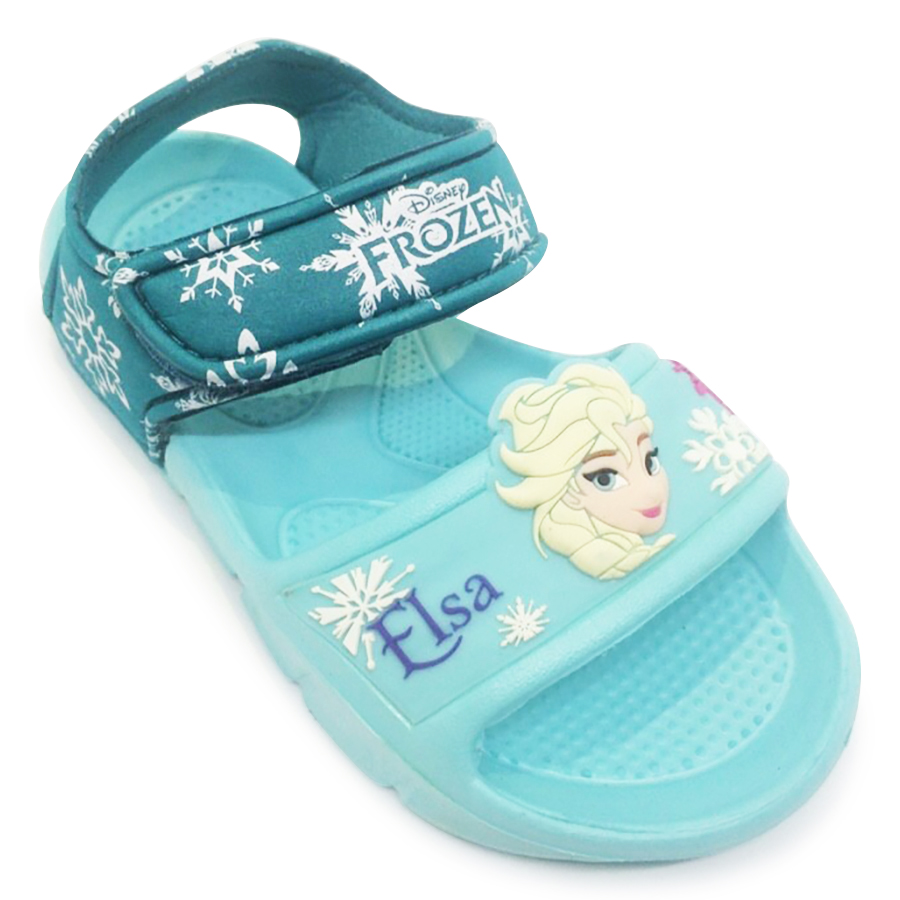Disney: (391, 177, 484, 220)
